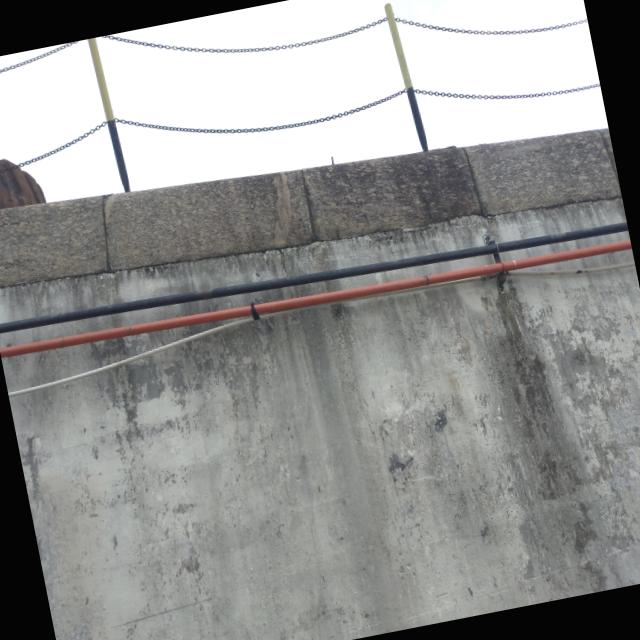gas: (1, 237, 632, 361), (0, 220, 628, 332)
